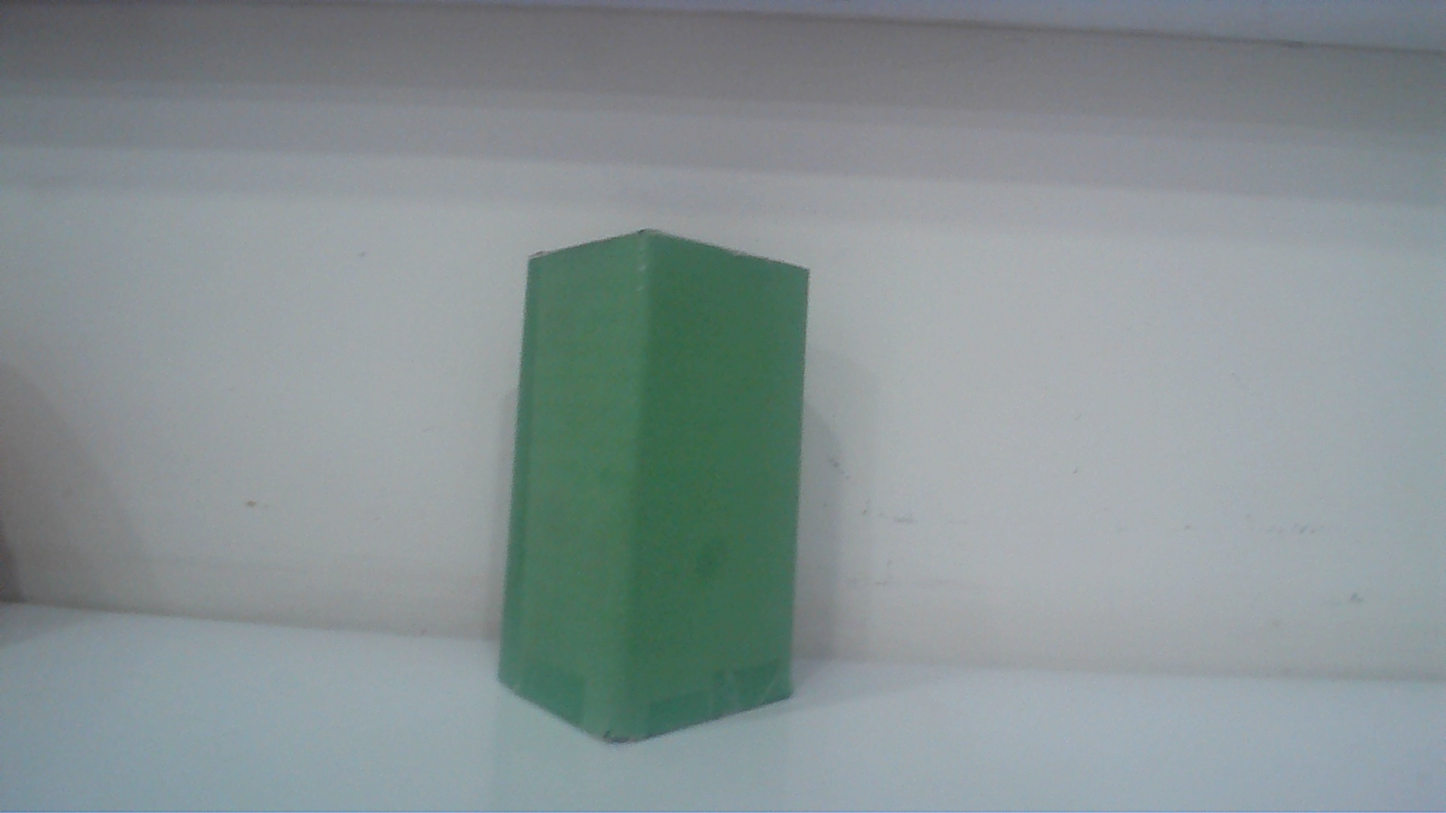green: (484, 213, 821, 760)
